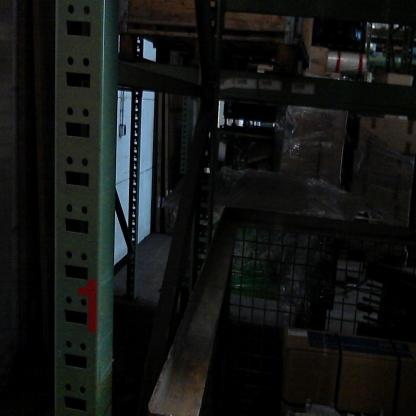stillage: (147, 190, 413, 412), (116, 25, 317, 95)
